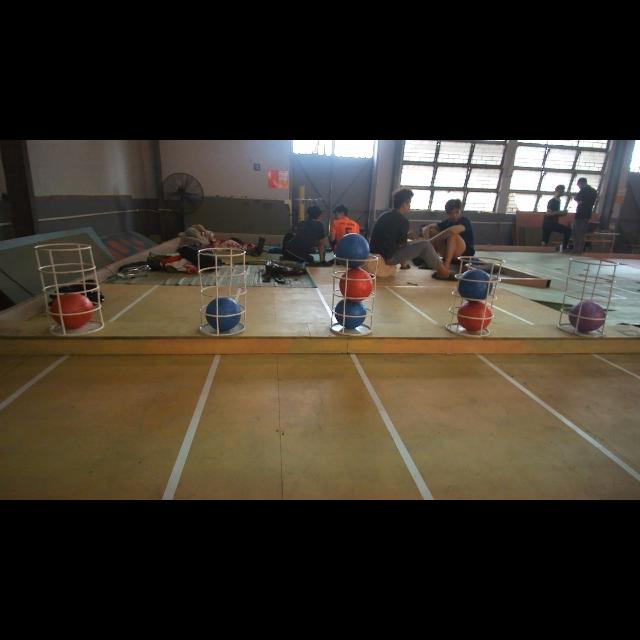B: (205, 296, 241, 334), (457, 268, 497, 302), (336, 233, 368, 267), (334, 298, 366, 329)
R: (48, 290, 96, 330), (339, 268, 375, 302), (458, 301, 492, 333)
